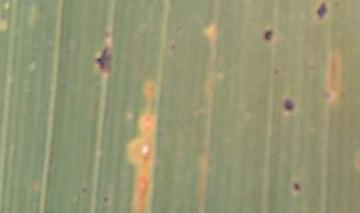tarspot: (95, 47, 115, 75), (316, 1, 328, 21), (284, 100, 295, 113), (264, 30, 273, 43), (291, 183, 301, 192), (80, 186, 89, 194), (272, 68, 280, 77), (102, 195, 110, 203), (170, 43, 177, 52)
